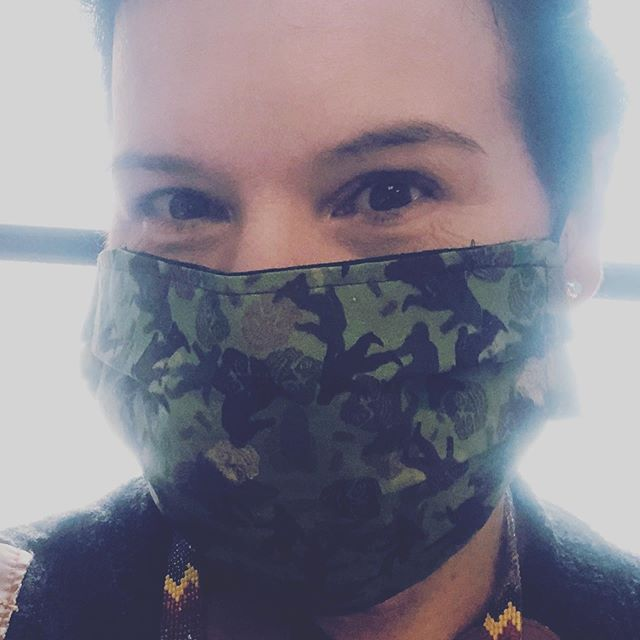homemade: (91, 245, 574, 578)
